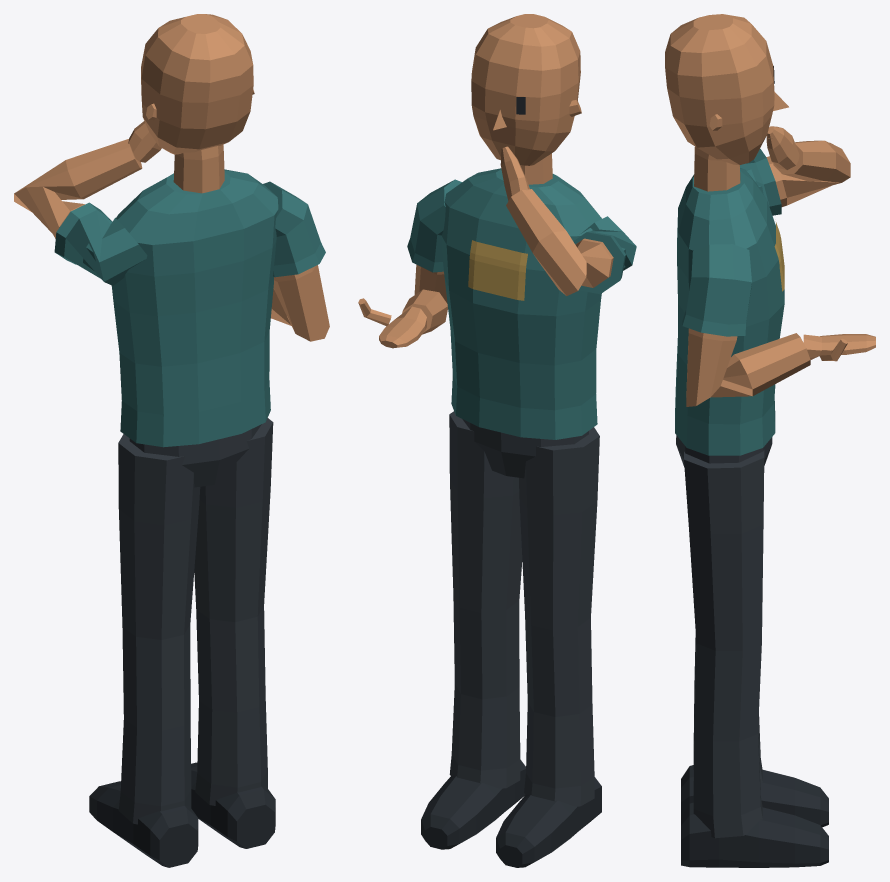
The model's file is lwf_attendee_male_eating_v2.glb.
3 views of the same model, side by side, from view 1: azimuth 30°, elevation 25°; view 2: azimuth 150°, elevation 25°; view 3: azimuth 270°, elevation 25° (orthographic). The views are drawn at different scales.
Parts seen in each view (by area): view 1: Attendee_male_eating_v6; view 2: Attendee_male_eating_v6; view 3: Attendee_male_eating_v6.
Part boxes in pixels (x1=…): Attendee_male_eating_v6: x1=14, y1=14, x2=329, y2=867; Attendee_male_eating_v6: x1=358, y1=14, x2=636, y2=867; Attendee_male_eating_v6: x1=665, y1=14, x2=875, y2=867.
Bounding box in the file's own units: 0.534 × 1.73 × 0.4017.
1 material, 1 textured.
